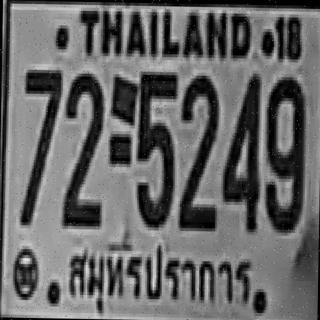N02: (61, 70, 103, 223), (178, 74, 218, 230)
N04: (220, 70, 260, 229)
N05: (135, 68, 176, 224)
N07: (20, 66, 61, 222), (22, 66, 61, 178)
N09: (262, 74, 304, 230)
P57: (59, 232, 256, 313)
